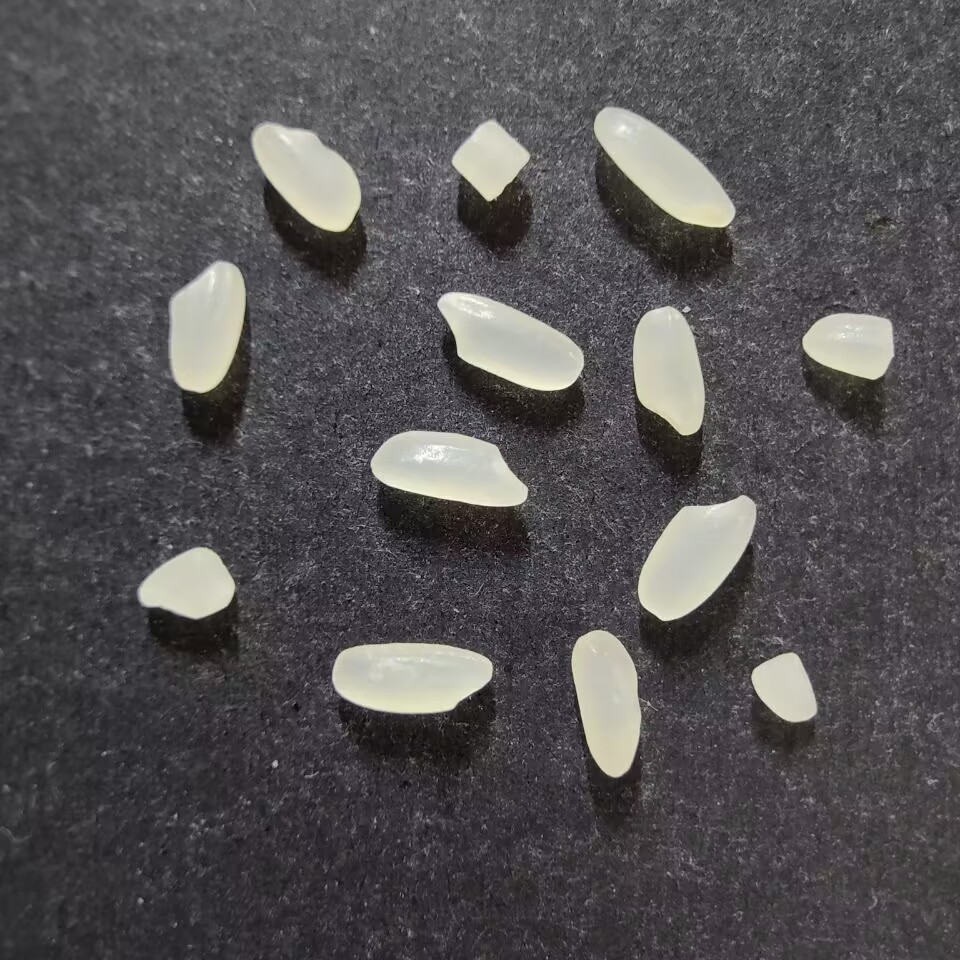broken: (137, 546, 235, 620), (450, 120, 531, 201), (801, 312, 894, 380), (750, 652, 817, 723)
rice: (592, 105, 736, 228), (637, 493, 758, 621), (436, 291, 584, 391), (369, 429, 529, 507), (251, 122, 362, 233), (331, 641, 493, 715), (570, 629, 642, 779), (168, 261, 246, 393), (631, 306, 705, 436)
